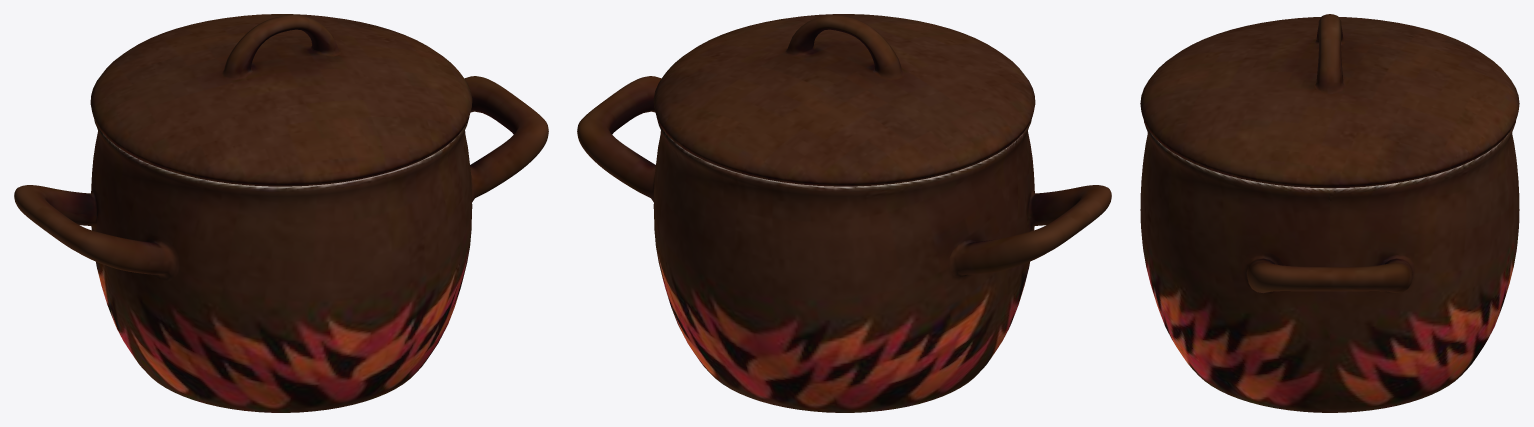
The model's file is pot_enamel_01.glb.
3 renders of one model, left to right at view 1: azimuth 30°, elevation 25°; view 2: azimuth 150°, elevation 25°; view 3: azimuth 270°, elevation 25°, orthographic.
Visible parts, largest first — view 1: pot_enamel_01_base, pot_enamel_01_lid; view 2: pot_enamel_01_base, pot_enamel_01_lid; view 3: pot_enamel_01_base, pot_enamel_01_lid.
Boxes of the visible parts, x1,y1,x2,y2 form: pot_enamel_01_base: (14,76,548,412); pot_enamel_01_lid: (90,14,472,186); pot_enamel_01_base: (577,76,1111,412); pot_enamel_01_lid: (653,14,1035,186); pot_enamel_01_base: (1140,121,1519,412); pot_enamel_01_lid: (1140,14,1519,188).
Bounding box in the file's own units: 0.2629 × 0.1783 × 0.1805.
1 material, 1 textured.
